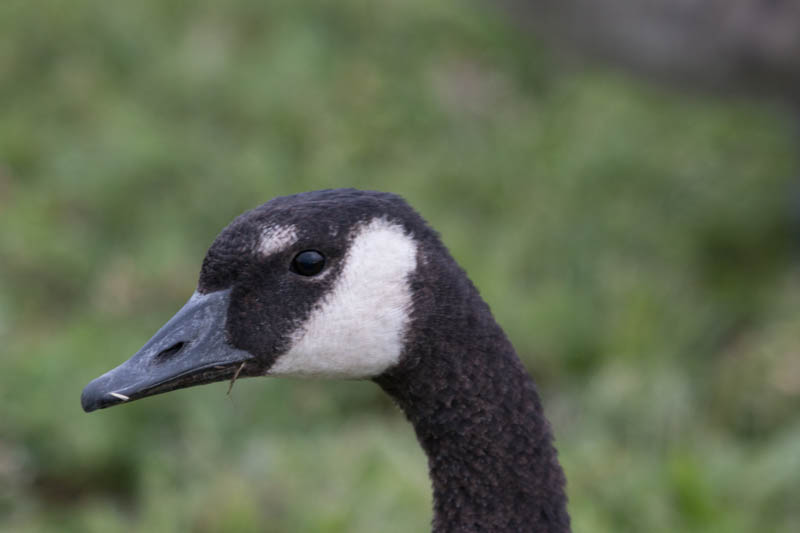goose-head: (80, 189, 464, 415)
